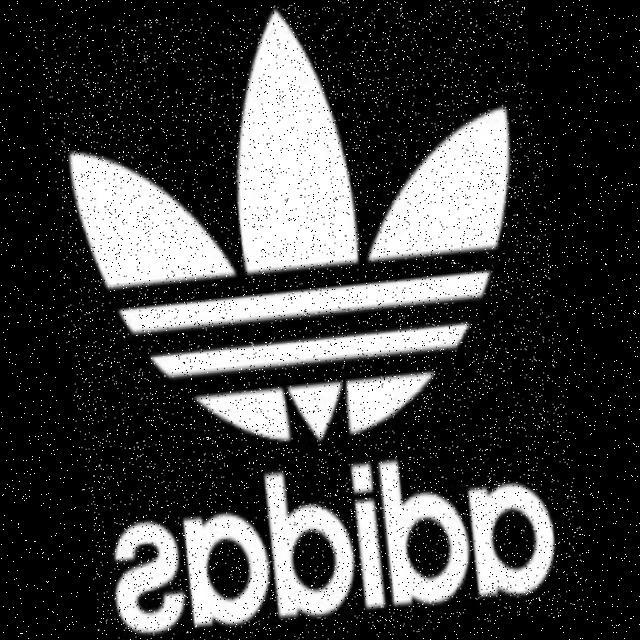Adidas: (32, 0, 588, 640)
